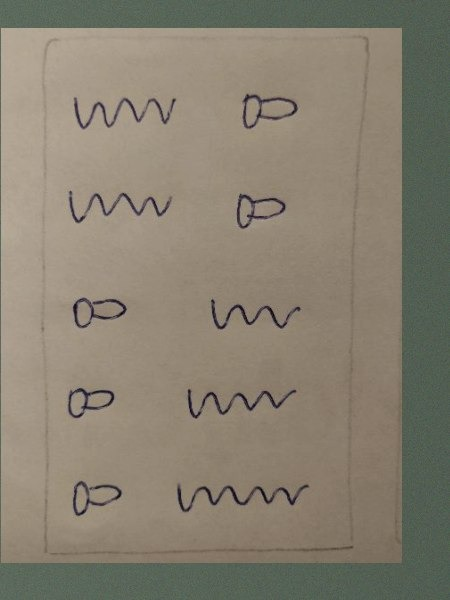switch: (233, 90, 310, 138), (64, 472, 133, 524), (64, 287, 134, 336), (230, 188, 292, 242), (61, 381, 125, 430)
text: (170, 475, 319, 527), (179, 381, 299, 431), (204, 289, 308, 340), (70, 91, 179, 138), (64, 188, 177, 232)
